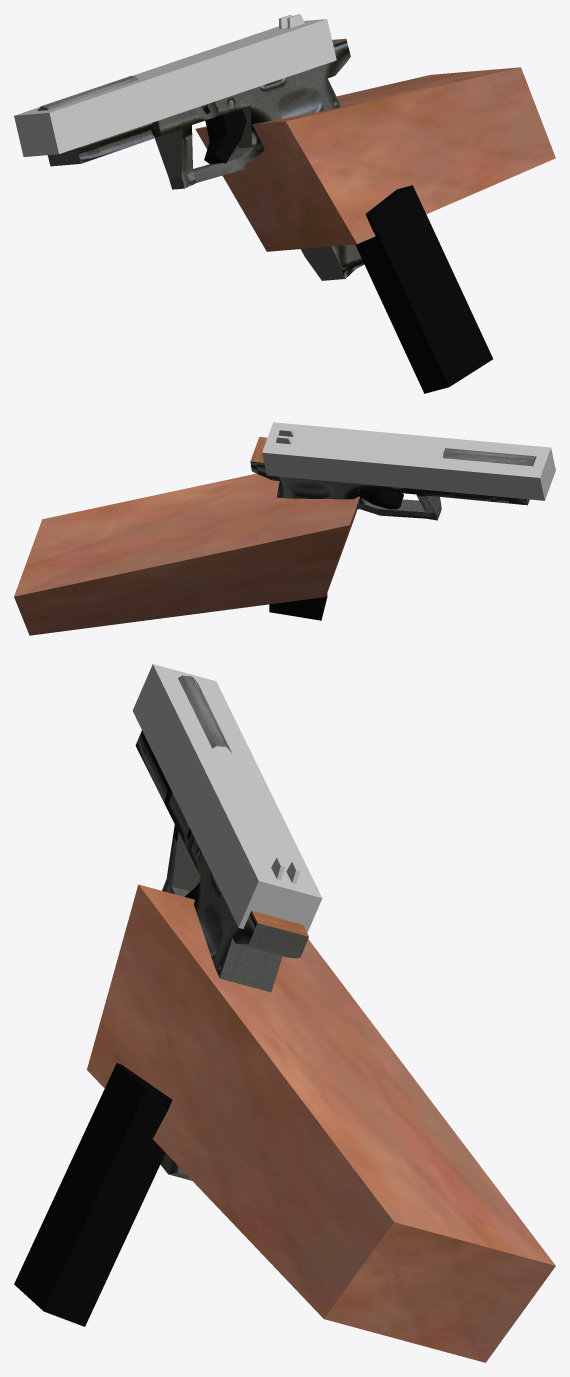
File: pistol_000030.obj
3 views of the same model, one above another, from view 1: azimuth 30°, elevation 25°; view 2: azimuth 150°, elevation 25°; view 3: azimuth 270°, elevation 25° (orthographic). The views are drawn at different scales.
Parts seen in each view (by area): view 1: Cube, Cube.001, Cube.002, Cube.003; view 2: Cube, Cube.001, Cube.002, Cube.003; view 3: Cube, Cube.001, Cube.002.
Boxes of the visible parts, x1,y1,x2,y2 form: Cube: (37, 38, 555, 280); Cube.001: (14, 14, 336, 156); Cube.002: (355, 185, 492, 393); Cube.003: (204, 108, 246, 164); Cube: (14, 437, 536, 635); Cube.001: (262, 422, 555, 500); Cube.002: (269, 593, 327, 620); Cube.003: (359, 489, 403, 509); Cube: (87, 675, 555, 1362); Cube.001: (132, 664, 322, 932); Cube.002: (14, 1063, 172, 1326).
Bounding box in the file's own units: 1.75 × 0.9578 × 1.1.
